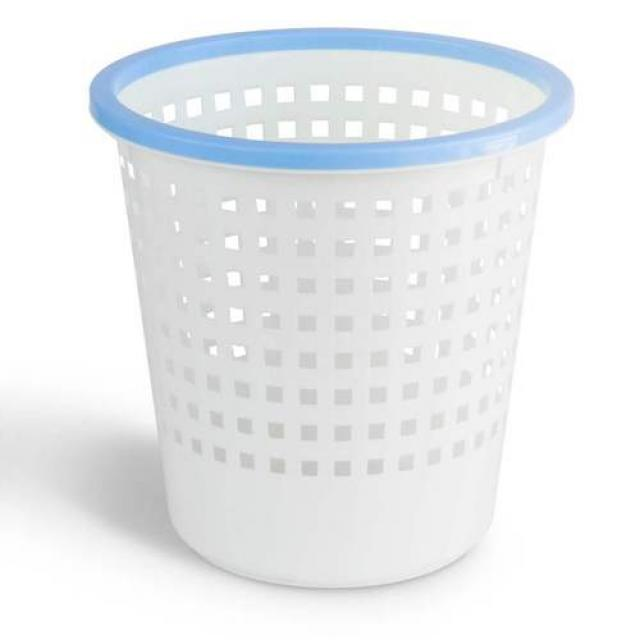Dustbin: (83, 19, 580, 594)
